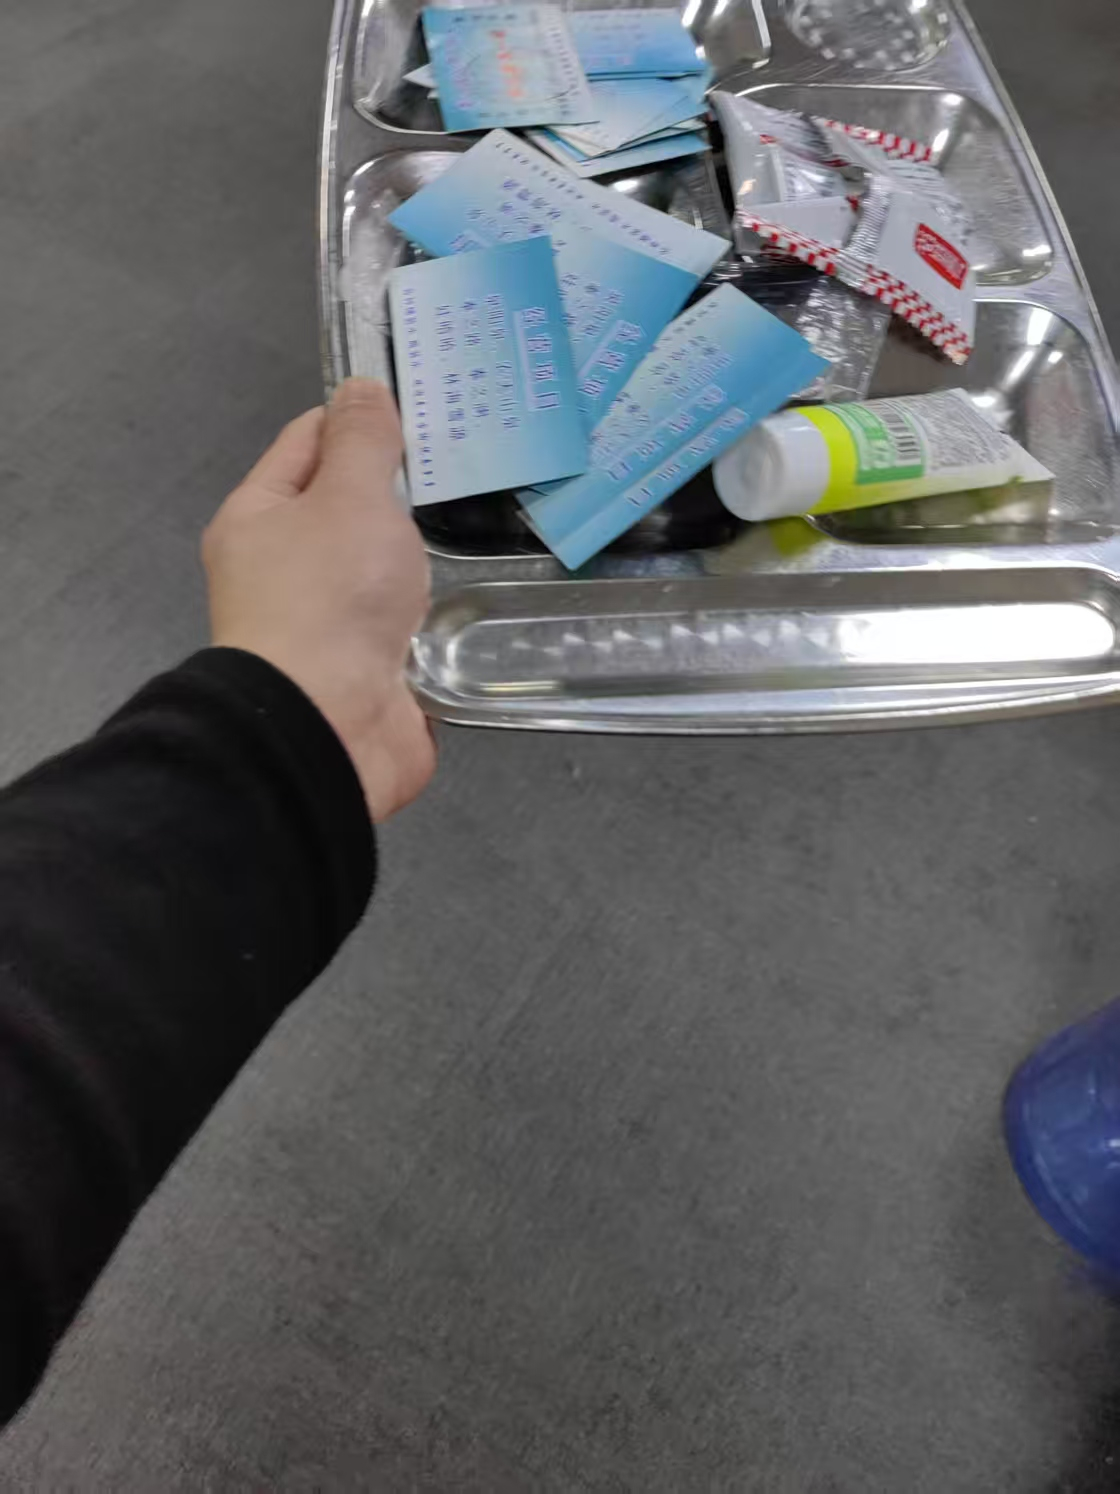plate: (317, 1, 1120, 734)
severe: (384, 7, 1066, 570)
